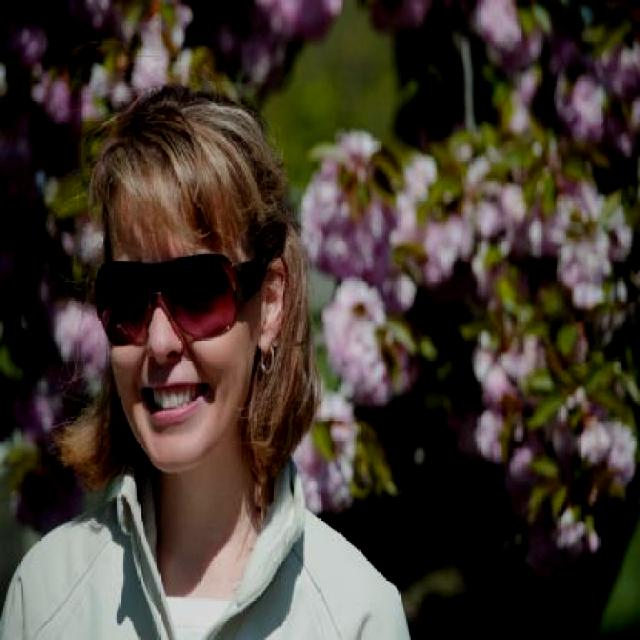face_nomask: (98, 258, 252, 447)
glasses: (84, 248, 256, 354)
head_nohelmet: (93, 90, 282, 222)
person: (24, 83, 396, 640)
